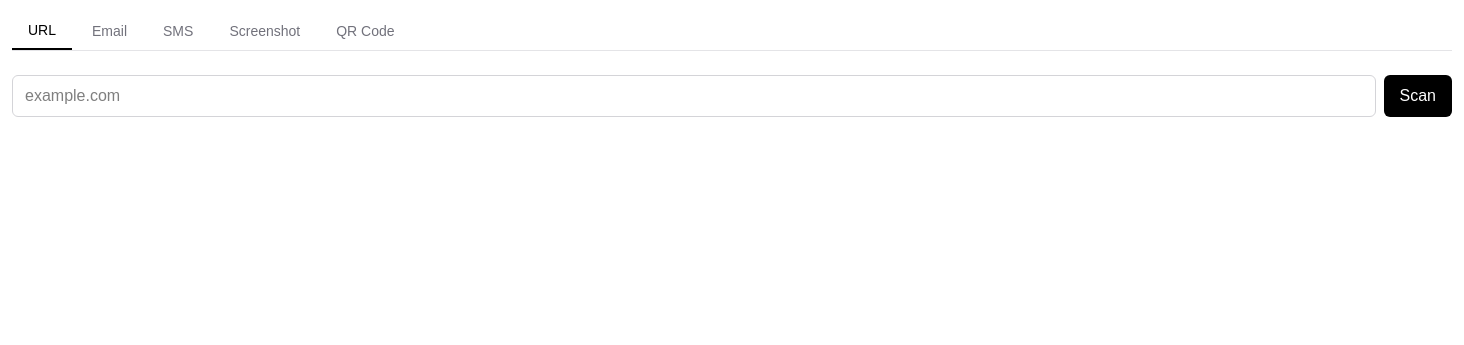
ScanTabs › switches to the SMS form when the SMS tab is clicked
Click the tab "SMS".
click(178, 31)  # box x1=147 y1=12 x2=209 y2=50
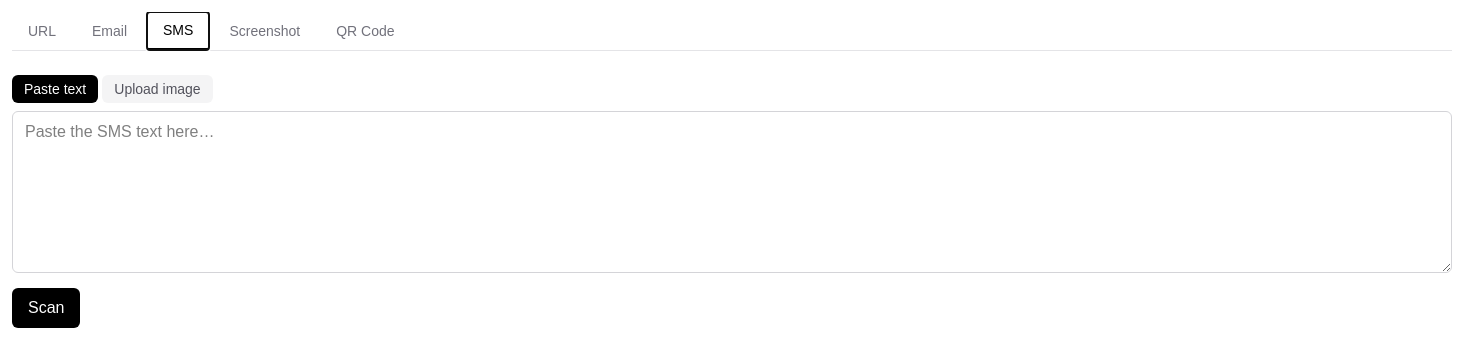
Expected: the text box with placeholder "Paste the SMS text here…" is shown, x1=12 y1=111 x2=1452 y2=273
